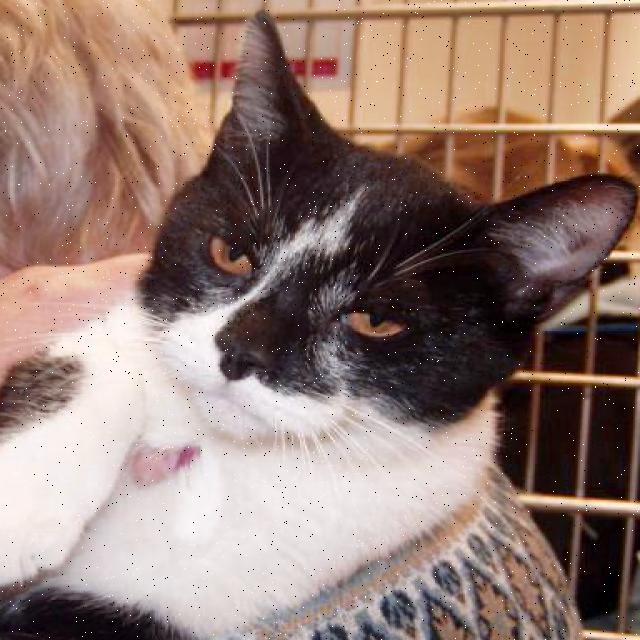Cat: (58, 13, 640, 474)
